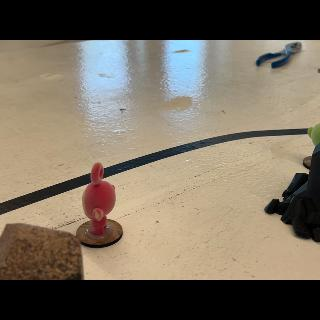teletubby: (82, 163, 116, 235), (308, 124, 320, 146)
